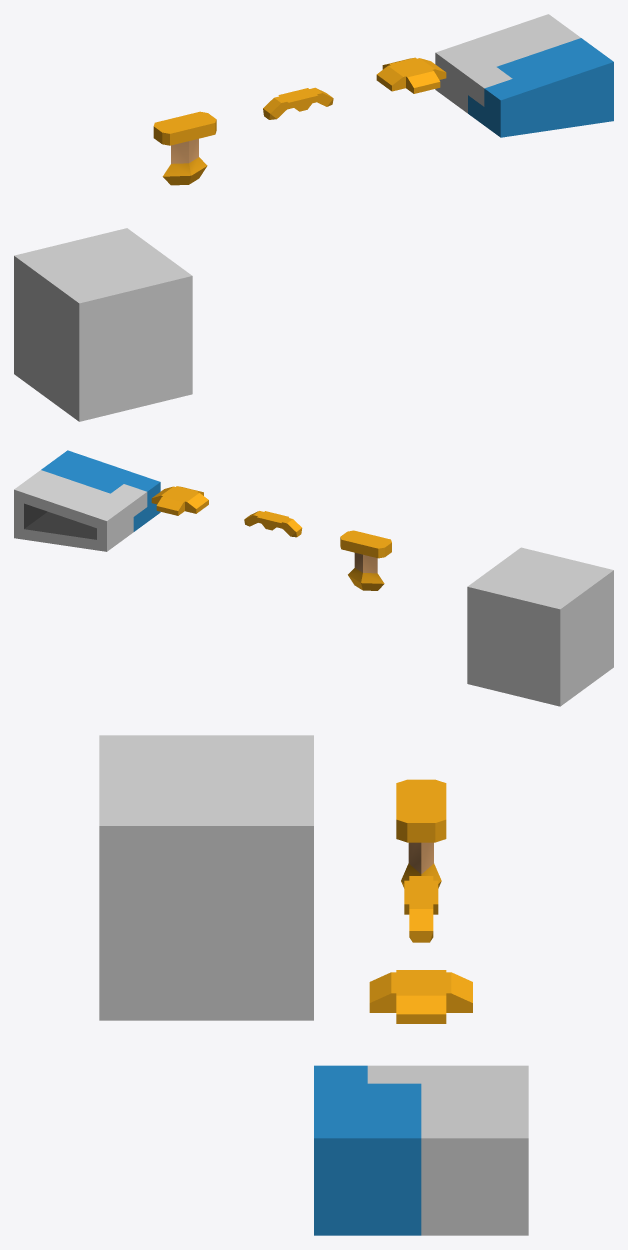
The model's file is ChrisBlueLevel7.fbx.
3 views of the same model, one above another, from view 1: azimuth 30°, elevation 25°; view 2: azimuth 150°, elevation 25°; view 3: azimuth 270°, elevation 25° (orthographic). The views are drawn at different scales.
Parts seen in each view (by area): view 1: block_default_27, engine_side_22, guard_slant_cross_24, guard_25, hilt_26, guard_detailed_23; view 2: block_default_27, engine_side_22, guard_slant_cross_24, guard_25, hilt_26, guard_detailed_23; view 3: block_default_27, engine_side_22, guard_slant_cross_24, guard_25, guard_detailed_23, hilt_26.
Part boxes in pixels (x1,y1,x2,y2): block_default_27: (14, 228, 192, 421); engine_side_22: (435, 14, 613, 137); guard_slant_cross_24: (376, 57, 446, 93); guard_25: (153, 111, 216, 145); hilt_26: (162, 138, 207, 185); guard_detailed_23: (263, 87, 333, 119); block_default_27: (467, 547, 613, 706); engine_side_22: (14, 450, 160, 551); guard_slant_cross_24: (151, 486, 208, 515); guard_25: (340, 530, 391, 558); hilt_26: (348, 553, 384, 590); guard_detailed_23: (244, 511, 302, 537); block_default_27: (99, 735, 313, 1020); engine_side_22: (314, 1065, 528, 1235); guard_slant_cross_24: (369, 970, 472, 1023); guard_25: (396, 779, 446, 842); guard_detailed_23: (404, 876, 438, 942); hilt_26: (401, 842, 441, 888).
Bounding box in the file's own units: 53 × 15 × 20.
